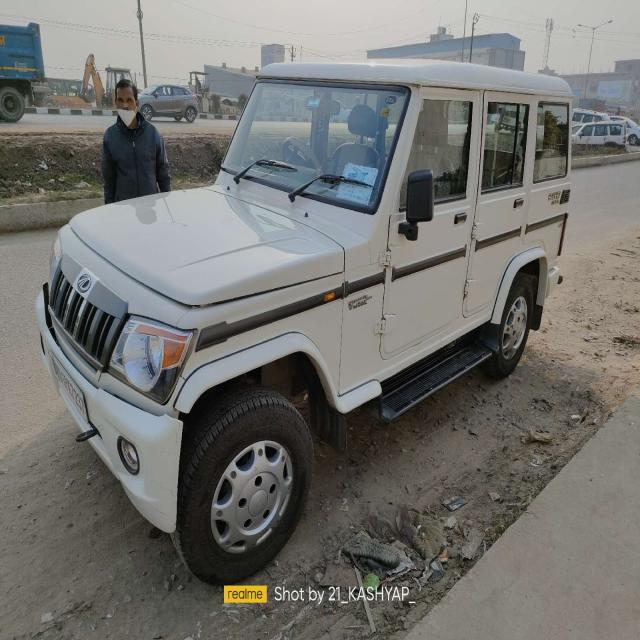light_vehicle: (43, 74, 566, 525)
